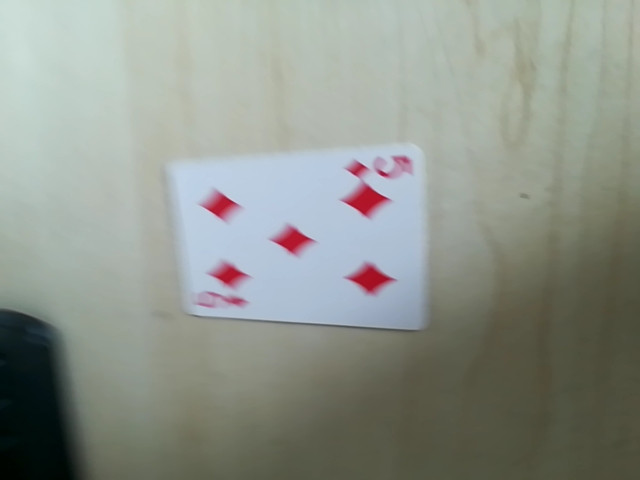fk 5: (342, 147, 414, 184), (193, 284, 252, 315)
